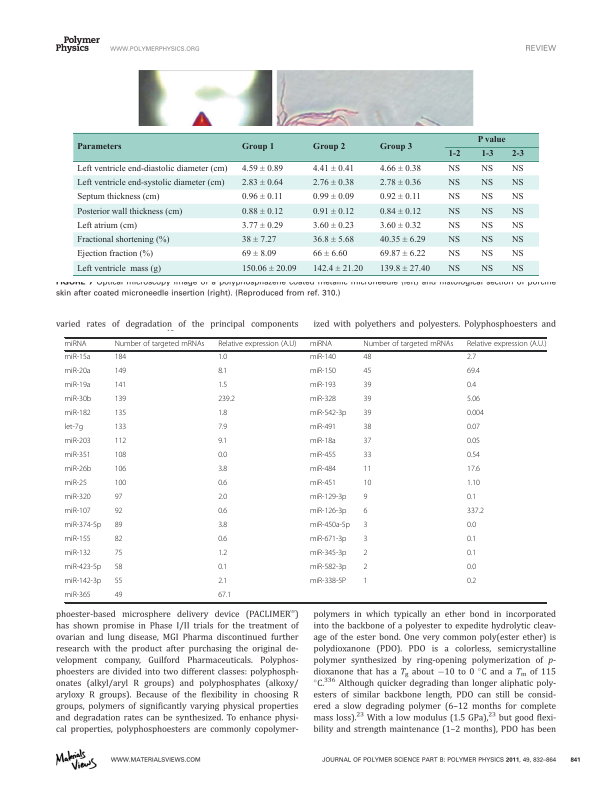borderless: (63, 336, 546, 602), (72, 131, 539, 275)
cell: (75, 164, 228, 174), (75, 178, 225, 188), (75, 207, 183, 217), (75, 235, 170, 245), (75, 192, 160, 203), (75, 264, 161, 274), (75, 249, 153, 260), (362, 340, 454, 349), (114, 340, 205, 349), (466, 340, 547, 349), (217, 340, 297, 349), (75, 221, 137, 231), (241, 264, 297, 274), (379, 249, 426, 260), (312, 264, 363, 274), (379, 264, 430, 274), (379, 235, 426, 245), (241, 192, 283, 203), (312, 192, 354, 203), (379, 192, 421, 203), (76, 143, 122, 153), (241, 164, 283, 174), (312, 164, 354, 174), (379, 164, 421, 174), (241, 178, 283, 188), (312, 178, 354, 188), (379, 178, 421, 188), (241, 207, 283, 217), (312, 207, 354, 217), (379, 207, 421, 217), (241, 221, 283, 231), (312, 221, 354, 231), (379, 221, 421, 231), (312, 235, 354, 245), (309, 521, 351, 531), (241, 249, 277, 260), (312, 249, 348, 260), (309, 409, 347, 419), (309, 493, 347, 503), (309, 507, 347, 517), (64, 521, 102, 531), (309, 535, 347, 545), (309, 549, 347, 559), (64, 563, 102, 573), (309, 563, 347, 573), (64, 577, 102, 587), (309, 577, 347, 587), (241, 235, 277, 245), (378, 143, 413, 153), (241, 143, 275, 153), (312, 143, 346, 153), (476, 136, 506, 146), (309, 353, 337, 363), (309, 367, 337, 377), (309, 381, 337, 391), (64, 395, 92, 405), (309, 395, 337, 405), (309, 423, 337, 433), (309, 437, 337, 447), (309, 451, 337, 461), (64, 465, 92, 475), (309, 465, 337, 475), (309, 479, 337, 489), (64, 353, 91, 363), (64, 367, 91, 377), (64, 381, 91, 391), (64, 409, 91, 419), (64, 437, 91, 447), (64, 451, 91, 461), (64, 493, 91, 503), (64, 507, 91, 517), (64, 535, 91, 545), (64, 549, 91, 559), (64, 591, 91, 601), (64, 479, 88, 489), (309, 340, 333, 349), (64, 340, 87, 349), (64, 423, 84, 433), (217, 395, 236, 405), (466, 409, 485, 419), (466, 507, 485, 517), (447, 192, 461, 203), (480, 192, 494, 203), (447, 249, 461, 260), (480, 249, 494, 260), (466, 367, 481, 377), (466, 395, 481, 405), (466, 423, 481, 433), (466, 437, 481, 447), (466, 451, 481, 461), (466, 465, 481, 475), (466, 479, 481, 489), (217, 591, 232, 601), (511, 192, 524, 203), (511, 249, 524, 260), (447, 150, 461, 160), (480, 150, 494, 160), (510, 150, 524, 160), (447, 164, 461, 174), (480, 164, 494, 174), (447, 178, 461, 188), (480, 178, 494, 188), (447, 207, 461, 217), (480, 207, 494, 217), (447, 221, 461, 231), (480, 221, 494, 231), (447, 235, 461, 245), (480, 235, 494, 245), (447, 264, 461, 274), (480, 264, 494, 274), (511, 164, 524, 174), (511, 178, 524, 188), (511, 207, 524, 217), (511, 221, 524, 231), (511, 235, 524, 245), (511, 264, 524, 274), (114, 353, 127, 363), (114, 367, 127, 377), (114, 381, 127, 391), (114, 395, 127, 405), (114, 409, 127, 419), (114, 423, 127, 433), (114, 437, 127, 447), (114, 451, 127, 461), (114, 465, 127, 475), (114, 479, 127, 489), (217, 353, 228, 363), (466, 353, 477, 363), (217, 367, 228, 377), (217, 381, 228, 391), (466, 381, 477, 391), (217, 409, 228, 419), (217, 423, 228, 433), (217, 437, 228, 447), (217, 451, 228, 461), (217, 465, 228, 475), (217, 479, 228, 489), (217, 493, 228, 503), (466, 493, 477, 503), (217, 507, 228, 517), (217, 521, 228, 531), (466, 521, 477, 531), (217, 535, 228, 545), (466, 535, 477, 545), (217, 549, 228, 559), (466, 549, 477, 559), (217, 563, 228, 573), (466, 563, 477, 573), (217, 577, 228, 587), (466, 577, 477, 587), (362, 353, 372, 363), (362, 367, 372, 377), (362, 381, 372, 391), (362, 395, 372, 405), (362, 409, 372, 419), (362, 423, 372, 433), (362, 437, 372, 447), (362, 451, 372, 461), (362, 465, 372, 475), (362, 479, 372, 489), (114, 493, 123, 503), (114, 507, 123, 517), (114, 521, 123, 531), (114, 535, 123, 545), (114, 549, 123, 559), (114, 563, 123, 573), (114, 577, 123, 587), (114, 591, 123, 601), (362, 493, 368, 503), (362, 507, 368, 517), (362, 521, 368, 531), (362, 535, 368, 545), (362, 549, 368, 559), (362, 563, 368, 573), (362, 577, 368, 587)
